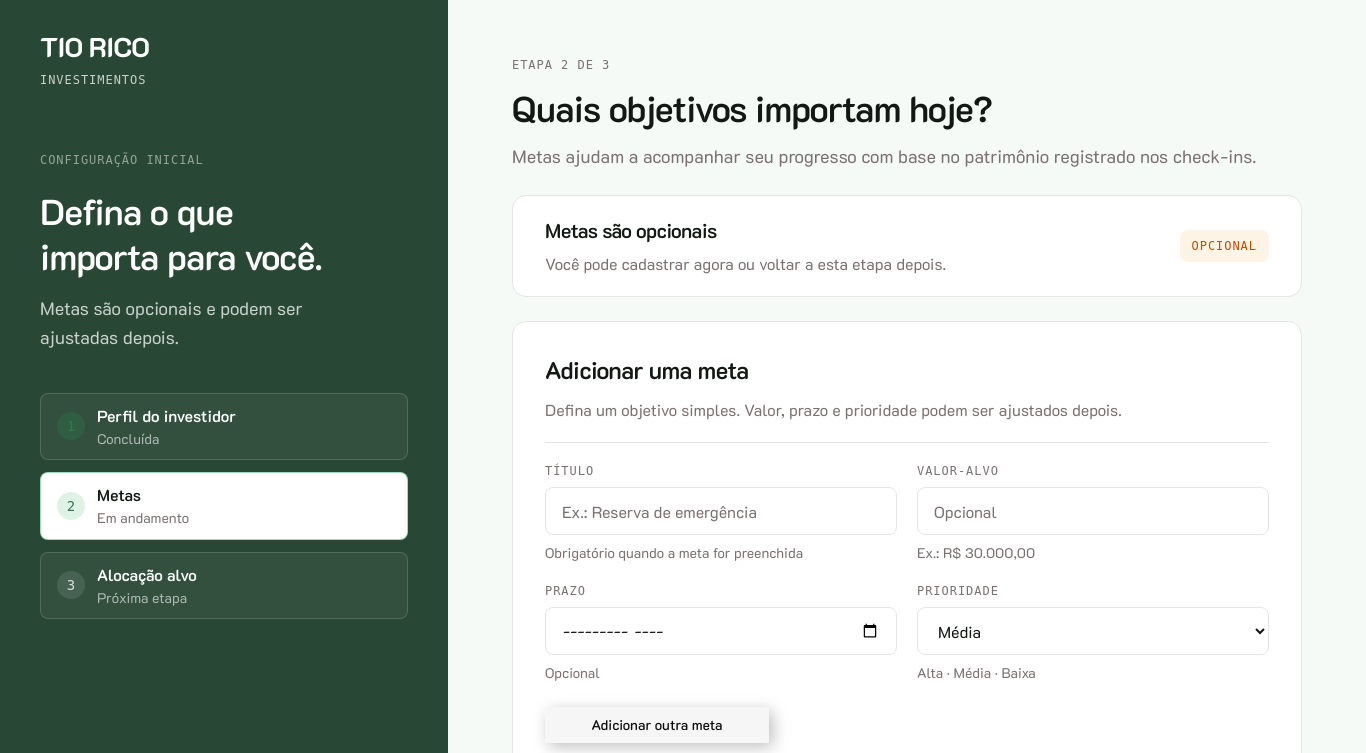
Test: OnboardingSecondStep › prazo no passado mostra erro e não avança (#52)
Type "Viagem" into the field labelled "Título" at (721, 511), box [545,487,897,535]
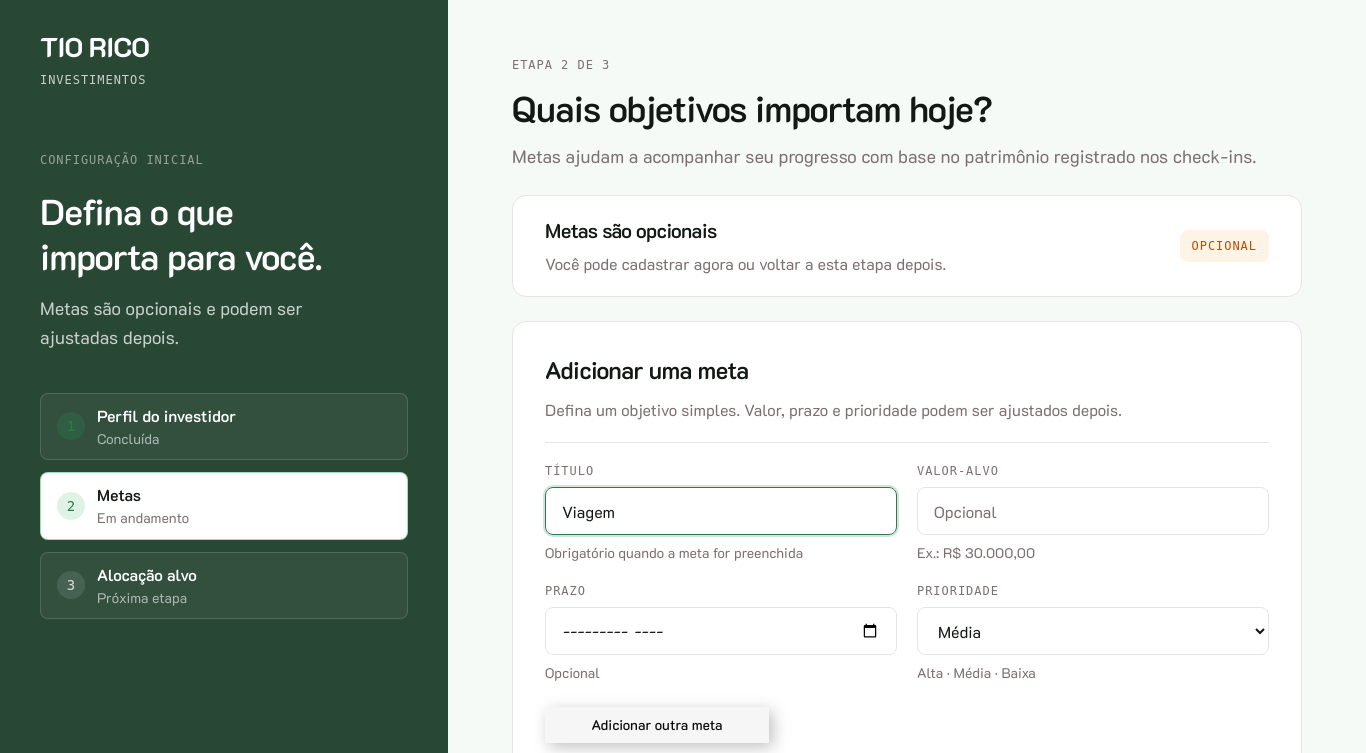
Type "2020-01" into the field labelled "Prazo" at (721, 631), box [545,607,897,655]
(page scrolled)
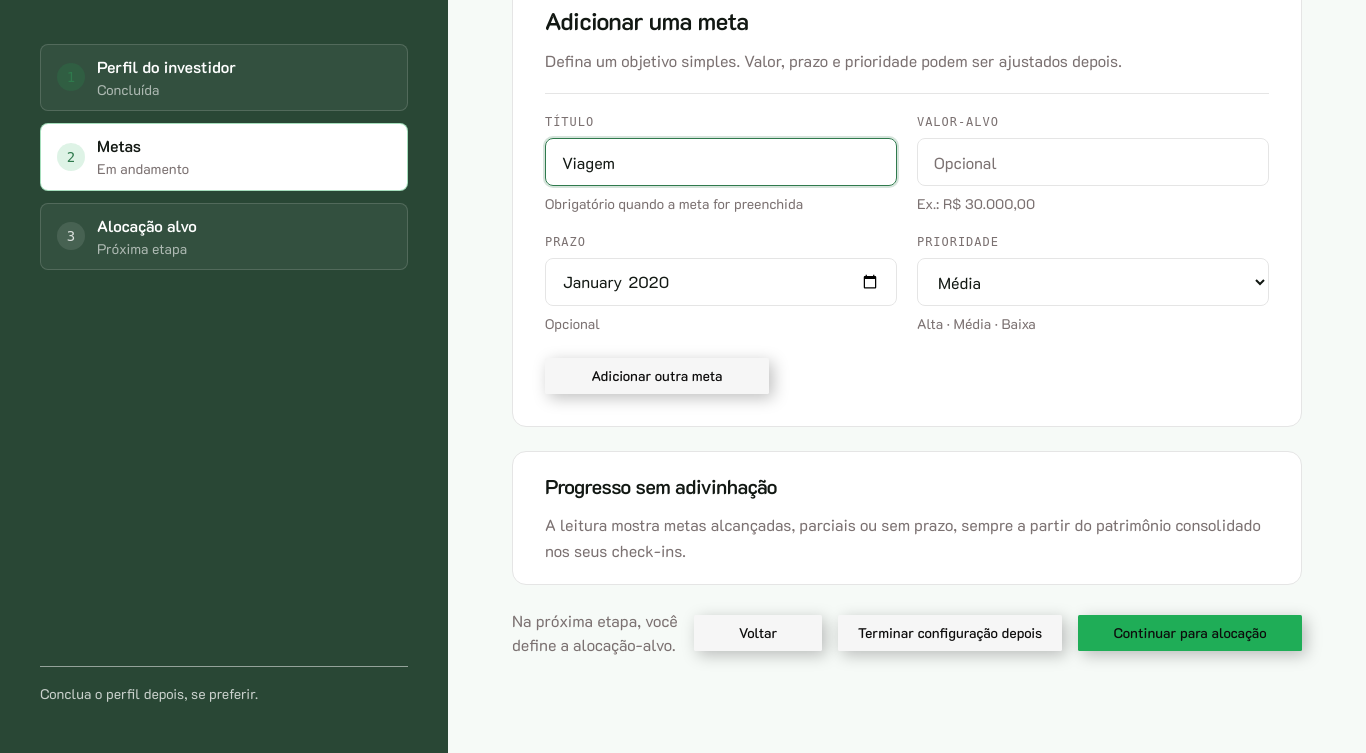
Click the button "Continuar para alocação" at (1190, 633), box [1078,615,1302,651]
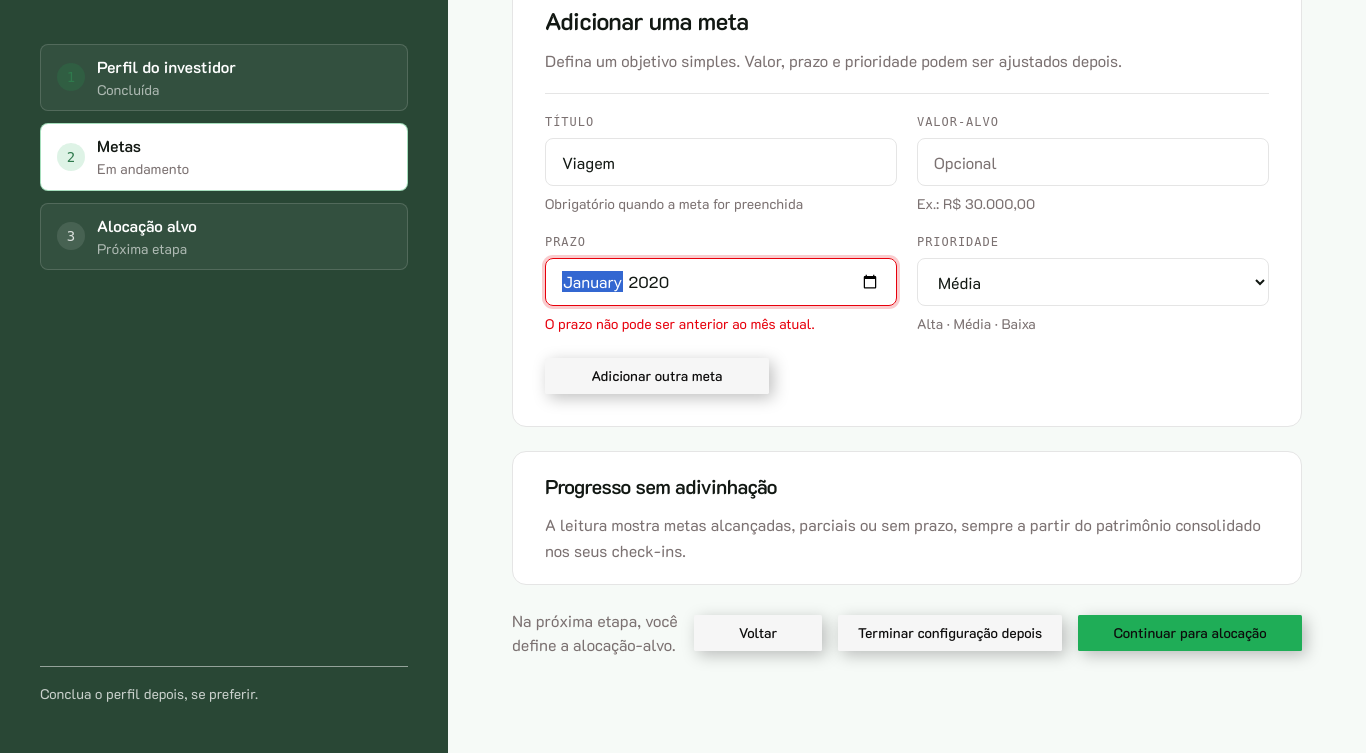
Now the text "O prazo não pode ser anterior ao mês atual." is shown, box [545,314,815,333]
